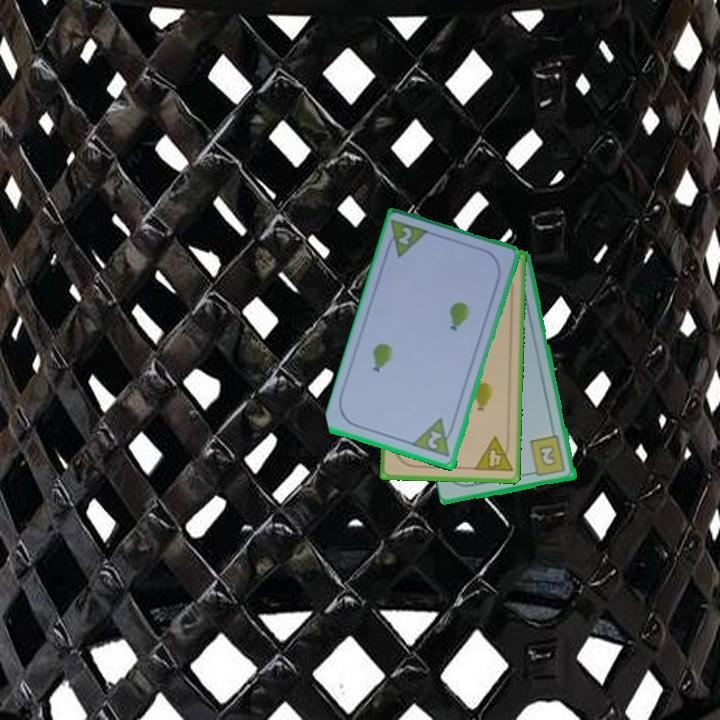2b: (526, 433, 568, 479)
2p: (382, 216, 433, 262), (410, 415, 458, 460)
4p: (471, 434, 515, 475)
